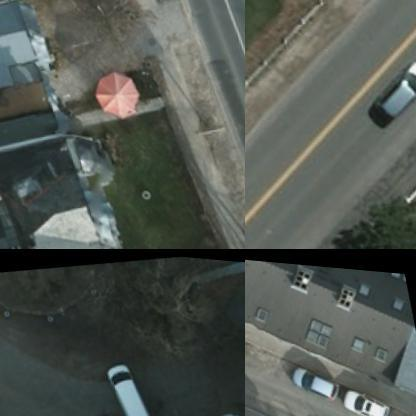car: (364, 46, 415, 120), (282, 356, 338, 404), (337, 378, 391, 415)
van: (101, 358, 156, 415)
